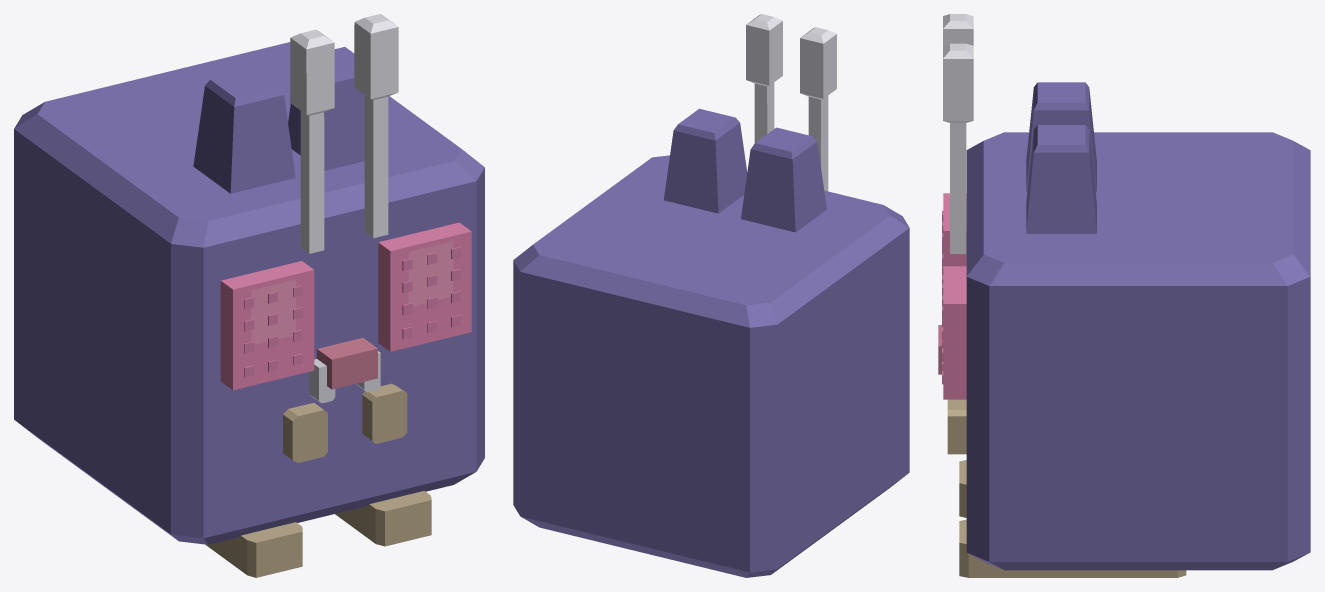
3 renders of one model, left to right at view 1: azimuth 30°, elevation 25°; view 2: azimuth 150°, elevation 25°; view 3: azimuth 270°, elevation 25°, orthographic. The views are drawn at different scales.
Parts seen in each view (by area): view 1: 0048_venonat; view 2: 0048_venonat; view 3: 0048_venonat.
Boxes of the visible parts, box(x1,y1,x2,y2) form: 0048_venonat: box(14, 14, 484, 577); 0048_venonat: box(513, 14, 909, 577); 0048_venonat: box(938, 14, 1310, 577).
Size of the model in its own units: 1.13 by 1.82 by 1.22.
1 material, 1 textured.
